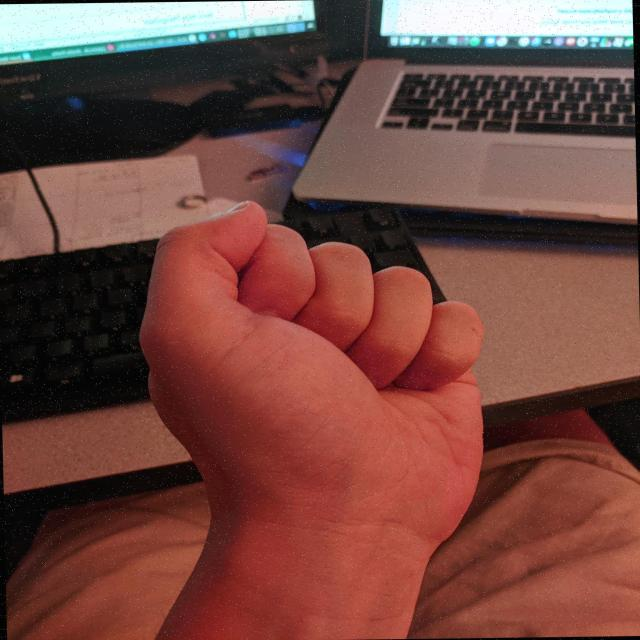A: (119, 195, 510, 569)
